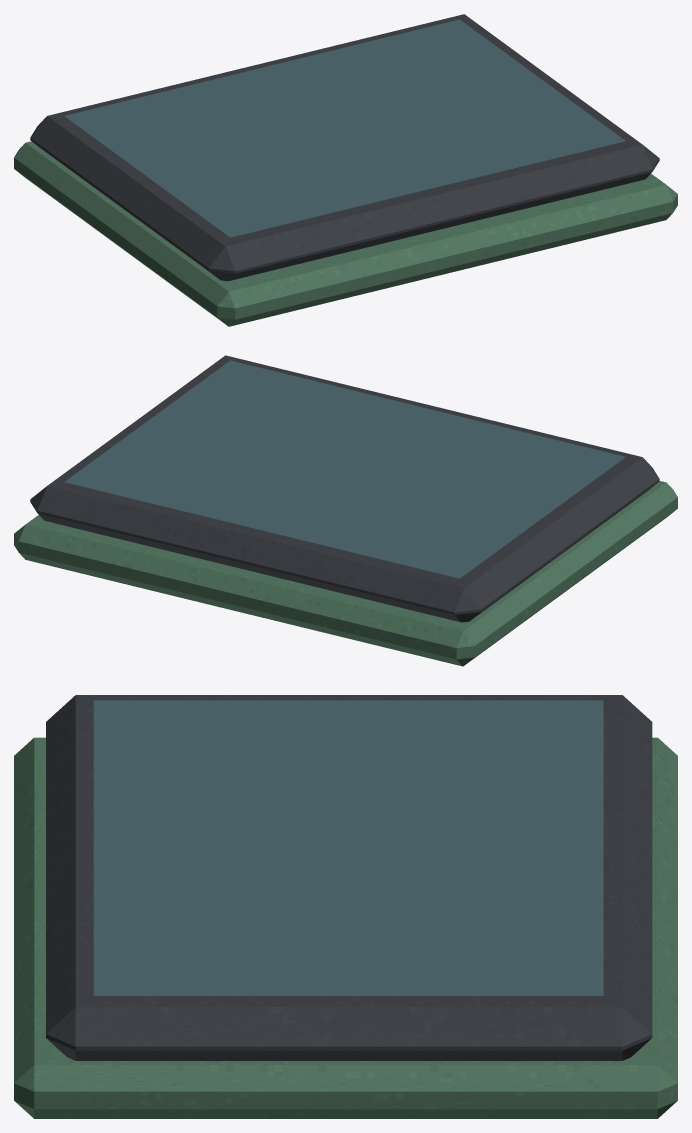
The model's file is small_lcd_screen.glb.
3 renders of one model, top to bottom at view 1: azimuth 30°, elevation 25°; view 2: azimuth 150°, elevation 25°; view 3: azimuth 270°, elevation 25°, orthographic. The views are drawn at different scales.
Visible parts, largest first — view 1: block_panel glass, block_panel surround, block_circuit substrate; view 2: block_panel glass, block_panel surround, block_circuit substrate; view 3: block_panel glass, block_panel surround, block_circuit substrate.
Boxes of the visible parts, x1,y1,x2,y2 form: block_panel glass: (64, 19, 625, 237); block_panel surround: (30, 14, 659, 281); block_circuit substrate: (14, 141, 677, 326); block_panel glass: (64, 360, 625, 578); block_panel surround: (30, 355, 659, 622); block_circuit substrate: (14, 481, 677, 666); block_panel glass: (93, 700, 603, 995); block_panel surround: (46, 695, 652, 1060); block_circuit substrate: (14, 737, 677, 1118).
Size of the model in its own units: 0.1184 by 0.0172 by 0.0965.
1 material, 1 textured.
